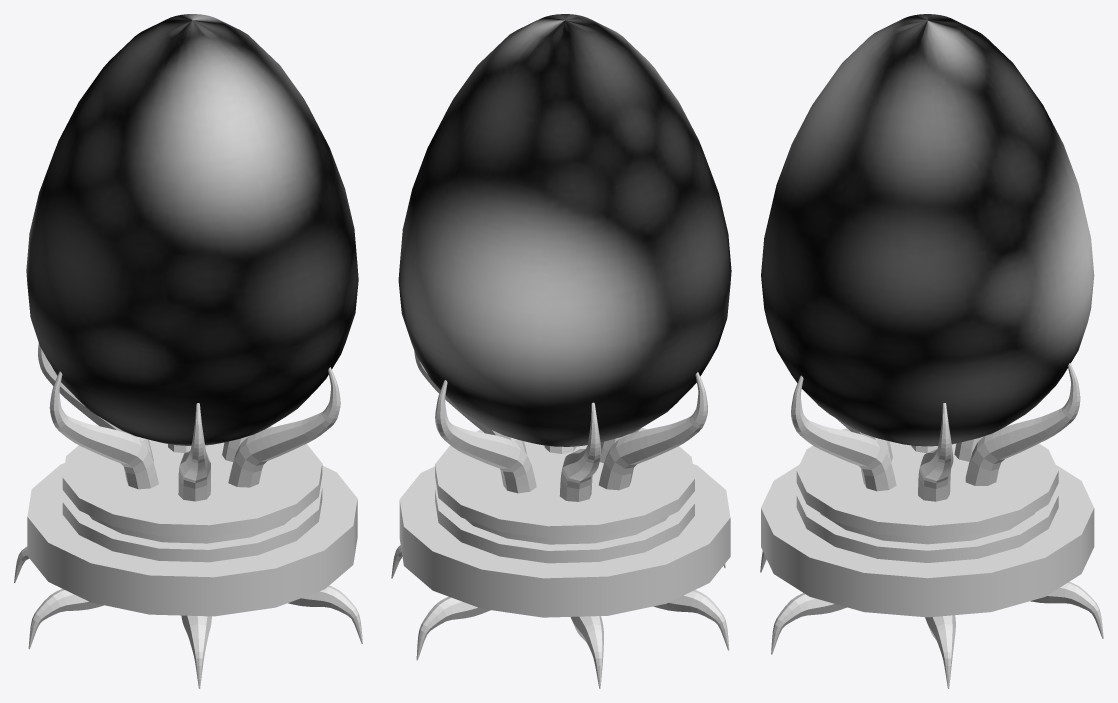
The model's file is HuevoDragon.fbx.
3 renders of one model, left to right at view 1: azimuth 30°, elevation 25°; view 2: azimuth 150°, elevation 25°; view 3: azimuth 270°, elevation 25°, orthographic.
Parts seen in each view (by area): view 1: Sphere, Circle, Plane; view 2: Sphere, Circle, Plane; view 3: Sphere, Circle, Plane.
Boxes of the visible parts, left/top/right/bottom form: Sphere: left=26, top=14, right=358, bottom=445; Circle: left=27, top=426, right=357, bottom=616; Plane: left=14, top=343, right=362, bottom=688; Sphere: left=398, top=14, right=731, bottom=446; Circle: left=399, top=427, right=730, bottom=617; Plane: left=391, top=351, right=729, bottom=688; Sphere: left=761, top=14, right=1094, bottom=446; Circle: left=761, top=428, right=1094, bottom=617; Plane: left=760, top=363, right=1103, bottom=688.
Size of the model in its own units: 226 by 390 by 206.
